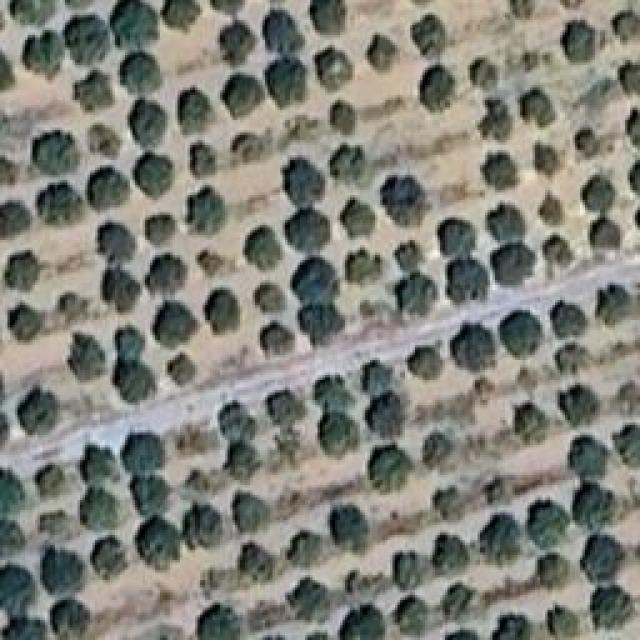Tree: (573, 480, 625, 532), (35, 178, 88, 229), (378, 175, 432, 223), (108, 0, 158, 51), (63, 13, 110, 66), (17, 30, 64, 79), (447, 323, 494, 372), (293, 258, 345, 302), (325, 502, 373, 549), (65, 330, 110, 380), (73, 485, 124, 529), (483, 513, 524, 567), (415, 63, 461, 111), (133, 518, 177, 568), (35, 547, 82, 593), (262, 57, 308, 104), (490, 242, 536, 288), (590, 585, 635, 632), (238, 225, 286, 268), (445, 253, 488, 301), (280, 160, 327, 203), (215, 18, 262, 61), (580, 535, 623, 582), (150, 304, 195, 348), (558, 382, 602, 427), (110, 365, 157, 407), (366, 392, 408, 439), (500, 310, 541, 358), (290, 207, 333, 252), (285, 577, 328, 622), (368, 447, 411, 492), (568, 433, 609, 480), (528, 500, 567, 549), (178, 508, 222, 551), (20, 387, 62, 432), (98, 267, 138, 314), (203, 288, 243, 335), (328, 143, 368, 190), (265, 7, 305, 54), (315, 47, 355, 94), (435, 528, 473, 577), (390, 548, 433, 591), (70, 67, 112, 111), (32, 133, 78, 173), (128, 98, 170, 141), (318, 413, 360, 455), (133, 153, 176, 194), (118, 50, 161, 91), (410, 15, 450, 59), (478, 150, 522, 190), (343, 605, 393, 640), (218, 73, 259, 115), (173, 88, 213, 131), (445, 583, 485, 626), (475, 103, 518, 143), (513, 400, 553, 443), (560, 20, 604, 59), (297, 305, 343, 342), (310, 373, 351, 414), (88, 170, 129, 211), (285, 525, 327, 565), (195, 605, 243, 640), (488, 200, 528, 242), (433, 210, 473, 252), (123, 433, 166, 472), (128, 473, 171, 511), (233, 543, 277, 580), (363, 28, 400, 72), (145, 255, 190, 291), (550, 297, 585, 343), (100, 228, 140, 268), (143, 210, 182, 251), (48, 600, 87, 640), (348, 248, 388, 287), (185, 193, 227, 230), (233, 493, 270, 535), (88, 540, 127, 579), (253, 275, 291, 315), (215, 400, 255, 438), (225, 440, 263, 480), (398, 275, 438, 313), (543, 602, 583, 640), (398, 595, 431, 640), (228, 130, 267, 168), (0, 565, 31, 612), (85, 123, 123, 161), (595, 285, 633, 323), (268, 388, 307, 425), (518, 85, 559, 120), (0, 470, 28, 520), (588, 215, 622, 256), (465, 53, 503, 89), (578, 175, 614, 213), (555, 340, 591, 377), (408, 345, 446, 380), (5, 305, 44, 339), (433, 483, 469, 519), (360, 358, 394, 396), (328, 98, 362, 136), (542, 233, 576, 271), (0, 200, 31, 241), (160, 0, 200, 31), (340, 200, 375, 235), (118, 325, 152, 361), (33, 507, 70, 540), (83, 450, 121, 482), (55, 287, 90, 321), (310, 0, 346, 33), (613, 421, 640, 464), (535, 552, 569, 586), (532, 140, 565, 175), (8, 255, 42, 288), (390, 237, 422, 271), (35, 465, 65, 501), (260, 324, 294, 354), (610, 8, 640, 41), (426, 435, 454, 469), (492, 615, 530, 640), (195, 250, 229, 277), (188, 144, 218, 174), (540, 198, 569, 228), (168, 350, 195, 381), (3, 617, 39, 640), (570, 128, 597, 158), (617, 60, 640, 95), (0, 518, 22, 554), (0, 50, 15, 93), (623, 110, 640, 145), (210, 0, 248, 15), (627, 157, 640, 192)
